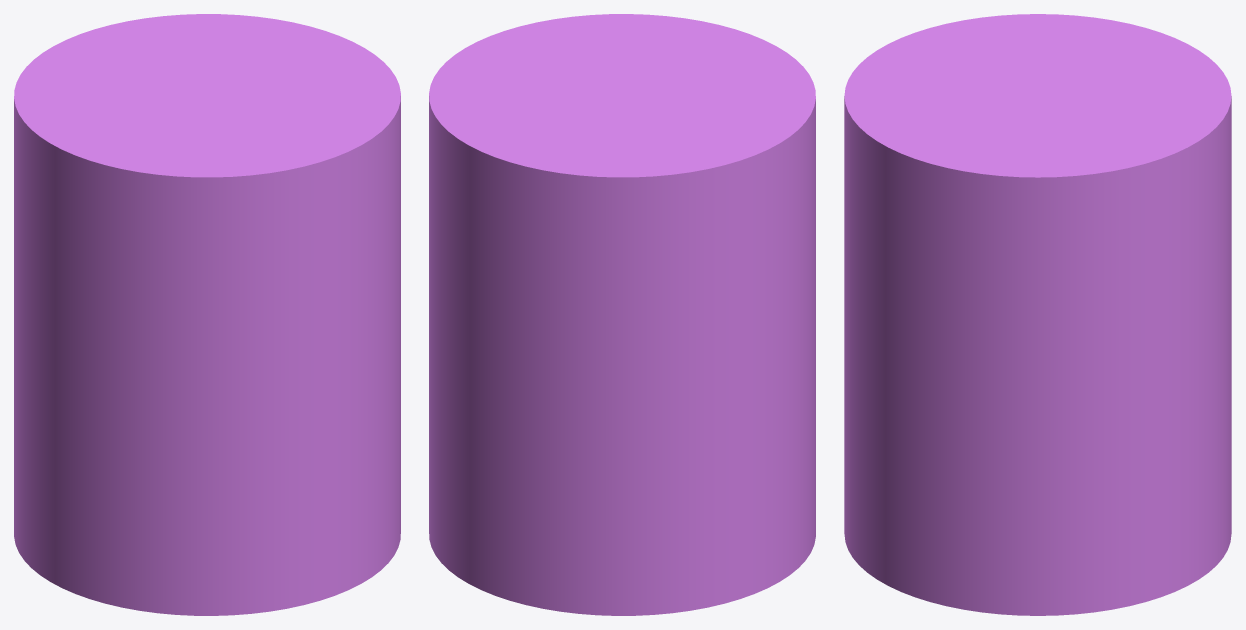
The picture shows the model from 3 angles, left to right: view 1: azimuth 30°, elevation 25°; view 2: azimuth 150°, elevation 25°; view 3: azimuth 270°, elevation 25°; orthographic projection.
Parts seen in each view (by area): view 1: Cylinder; view 2: Cylinder; view 3: Cylinder.
Boxes of the visible parts, left/top/right/bottom form: Cylinder: left=14, top=14, right=400, bottom=615; Cylinder: left=429, top=14, right=815, bottom=615; Cylinder: left=844, top=14, right=1231, bottom=615.
Size of the model in its own units: 1.6 by 2 by 1.6.
